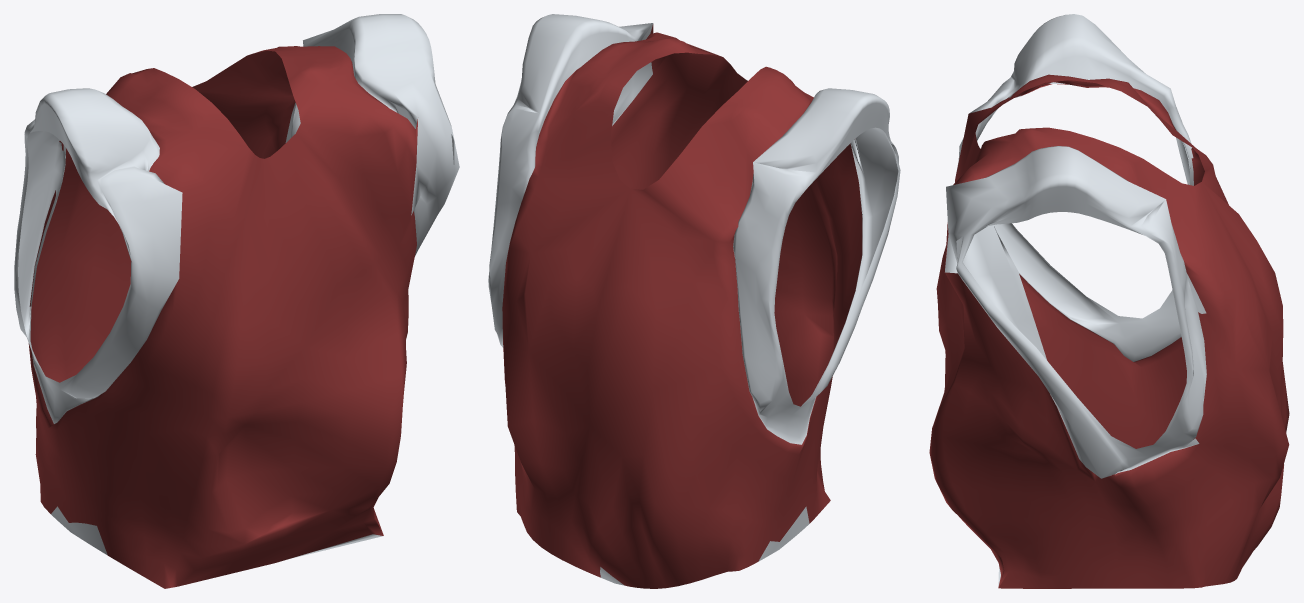
Rendered from chandail.fbx.
3 views of the same model, side by side, from view 1: azimuth 30°, elevation 25°; view 2: azimuth 150°, elevation 25°; view 3: azimuth 270°, elevation 25° (orthographic). The views are drawn at different scales.
Visible parts, largest first — view 1: polySurface85; view 2: polySurface85; view 3: polySurface85.
Part boxes in pixels (x1,y1,x2,y2): polySurface85: (14, 14, 459, 588); polySurface85: (488, 14, 900, 588); polySurface85: (929, 14, 1289, 588).
Size of the model in its own units: 37.05 by 49.35 by 34.41.
